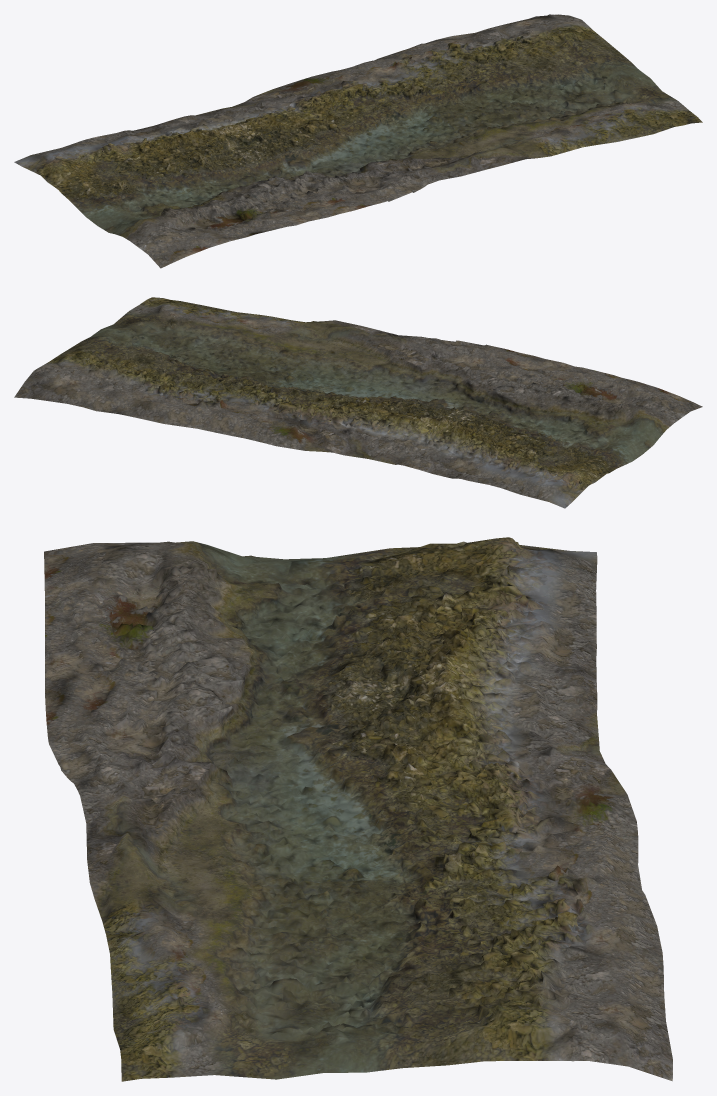
File: shore-lod.glb
3 renders of one model, top to bottom at view 1: azimuth 30°, elevation 25°; view 2: azimuth 150°, elevation 25°; view 3: azimuth 270°, elevation 25°, orthographic. The views are drawn at different scales.
Parts seen in each view (by area): view 1: coast_line_02; view 2: coast_line_02; view 3: coast_line_02.
Boxes of the visible parts, x1,y1,x2,y2 form: coast_line_02: (14,14,702,268); coast_line_02: (14,297,702,508); coast_line_02: (44,537,672,1081).
Bounding box in the file's own units: 45.63 × 2.26 × 23.28.
Materials: 1 (1 with a texture image).
